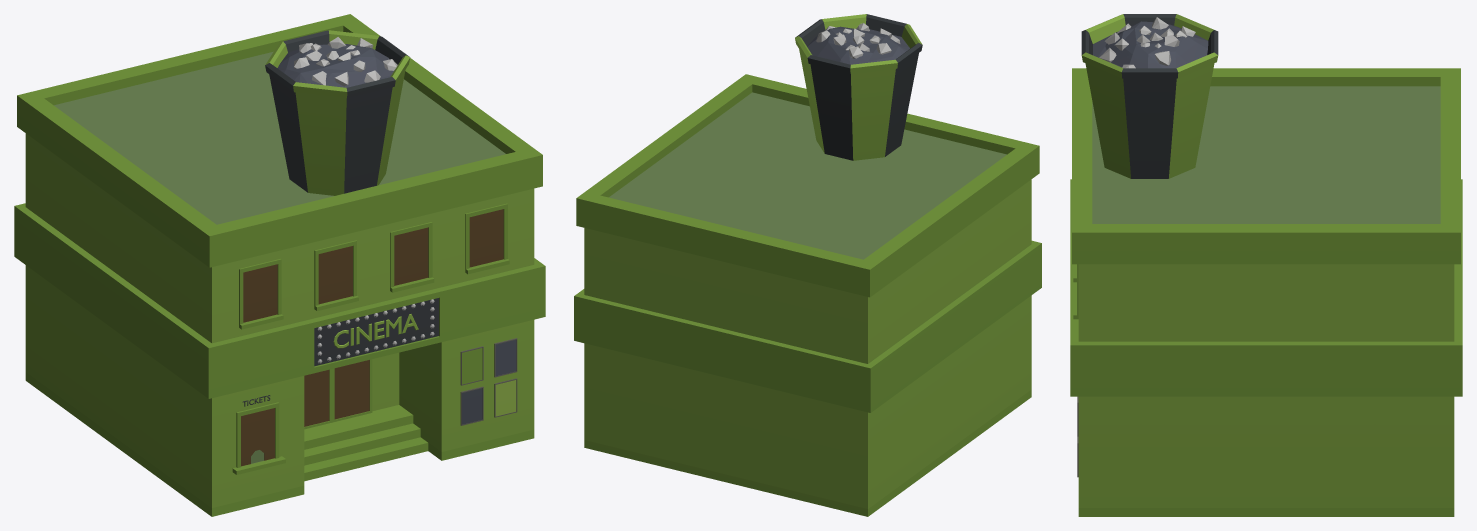
The model's file is Cinema_01.fbx.
3 renders of one model, left to right at view 1: azimuth 30°, elevation 25°; view 2: azimuth 150°, elevation 25°; view 3: azimuth 270°, elevation 25°, orthographic. The views are drawn at different scales.
Visible parts, largest first — view 1: Cinema_01; view 2: Cinema_01; view 3: Cinema_01.
Part boxes in pixels (x1,y1,x2,y2): Cinema_01: [14, 14, 545, 516]; Cinema_01: [574, 14, 1041, 516]; Cinema_01: [1070, 14, 1462, 516].
Size of the model in its own units: 8.36 by 9.53 by 8.36.
